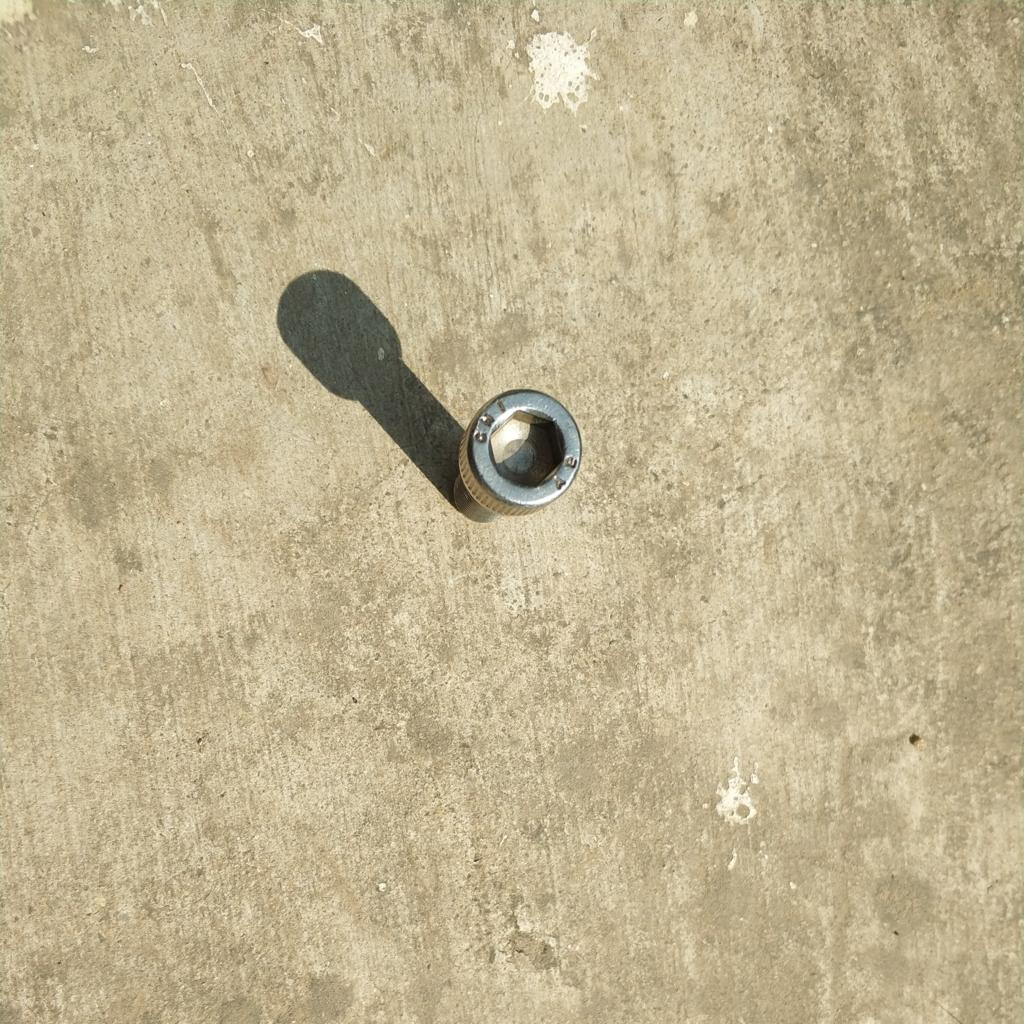screwtype1silver: (442, 383, 585, 530)
